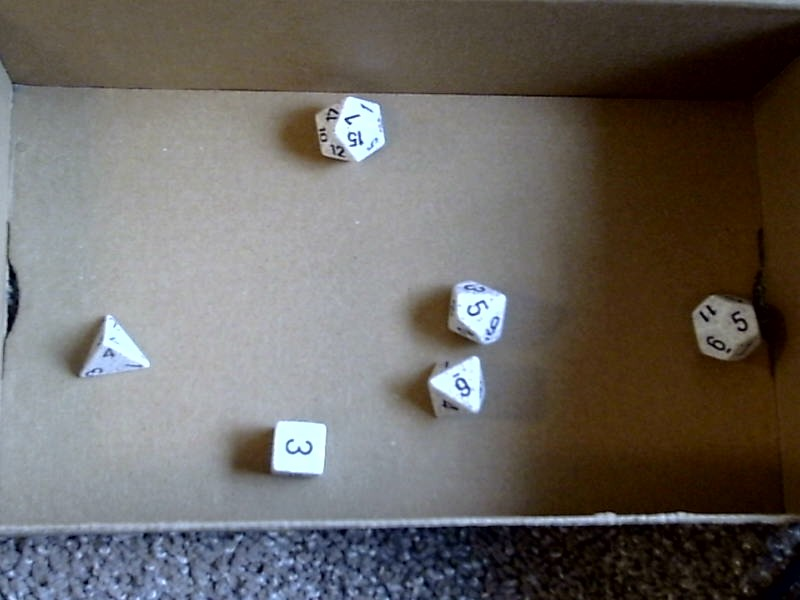d10 5: (438, 268, 514, 347)
d12 5: (683, 282, 766, 372)
d20 7: (305, 94, 395, 166)
d4 4: (64, 305, 158, 389)
d6 3: (263, 412, 335, 483)
d8 6: (418, 352, 493, 425)
